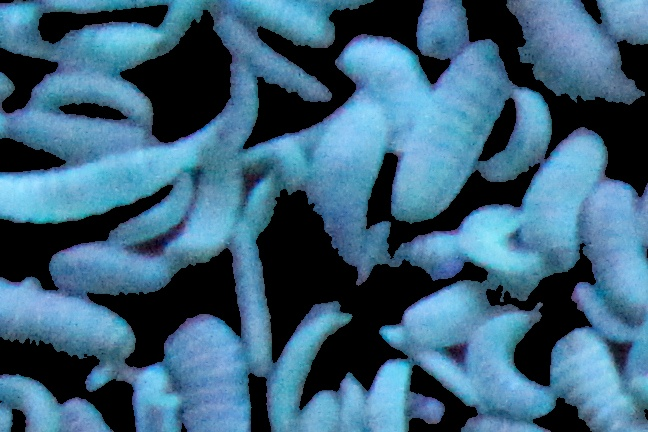larvae: (391, 42, 507, 218), (1, 131, 195, 220), (505, 1, 637, 103), (515, 130, 608, 272), (307, 101, 388, 262), (1, 278, 134, 358), (268, 312, 354, 432), (575, 172, 648, 311), (550, 326, 648, 428), (167, 317, 251, 432), (458, 307, 548, 413), (213, 23, 332, 102), (165, 149, 241, 263), (473, 79, 556, 182), (382, 326, 477, 404), (335, 35, 432, 110), (30, 70, 153, 126), (225, 234, 276, 369), (7, 110, 153, 157), (45, 243, 170, 295), (461, 206, 542, 286), (49, 23, 168, 73), (111, 173, 192, 243), (403, 283, 489, 339), (208, 65, 260, 145), (232, 3, 334, 43), (573, 284, 643, 342), (241, 128, 306, 188), (368, 357, 420, 432), (411, 2, 474, 60), (138, 359, 187, 432), (394, 226, 462, 277), (1, 372, 54, 432), (238, 174, 282, 238), (337, 372, 374, 432), (301, 386, 342, 432)
